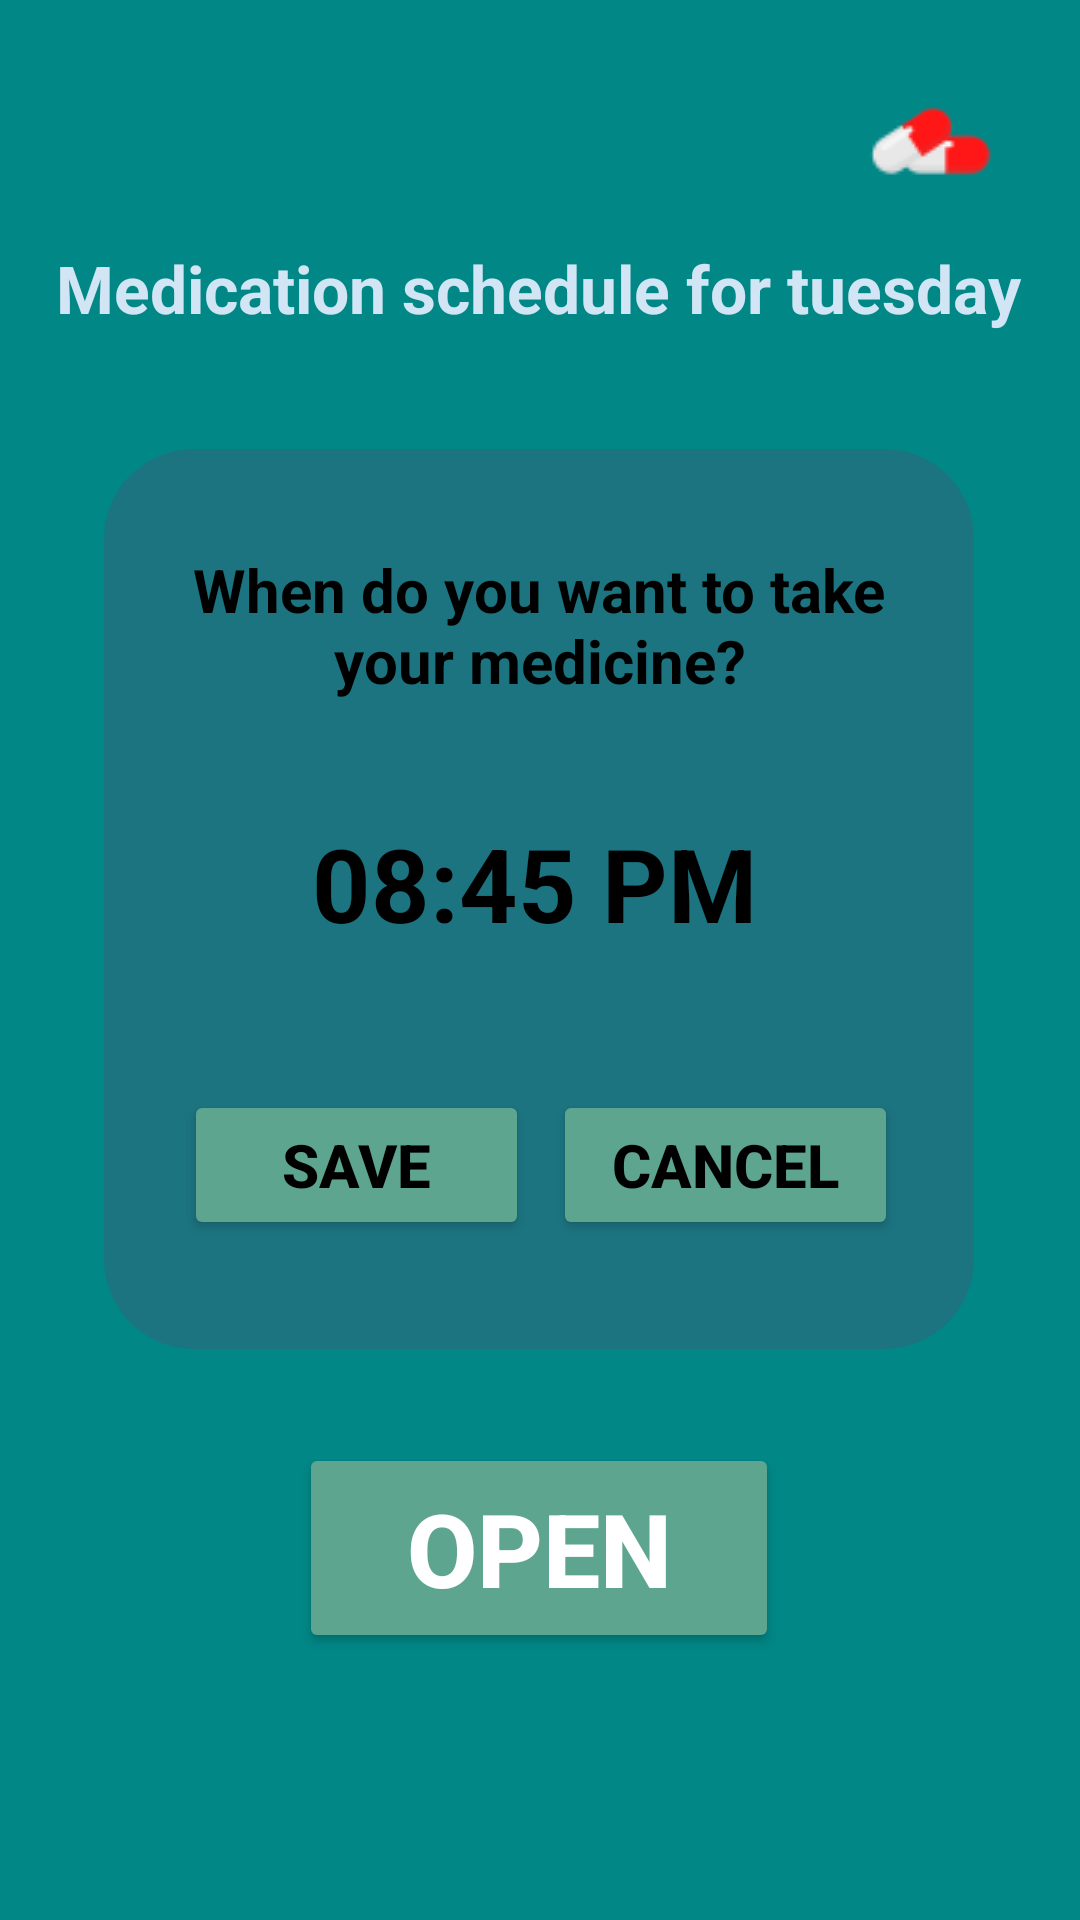

Icon bounding boxes for this 1080 x 1920 phone screenshot, format rect(x1, y1, x2, y2):
dosit: rect(872, 107, 991, 175)
